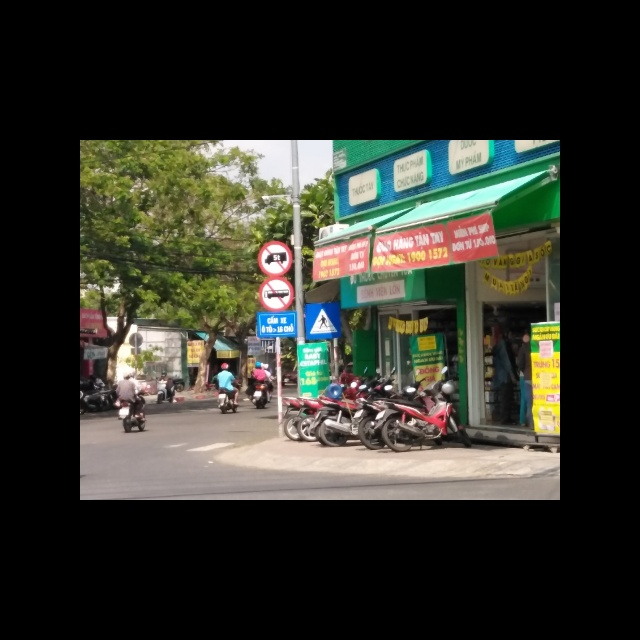Cấm xe tải: (257, 240, 294, 277)
Cấm xe xe khách: (259, 276, 295, 312)
Đường dành cho người đi bộ: (305, 304, 342, 341)
